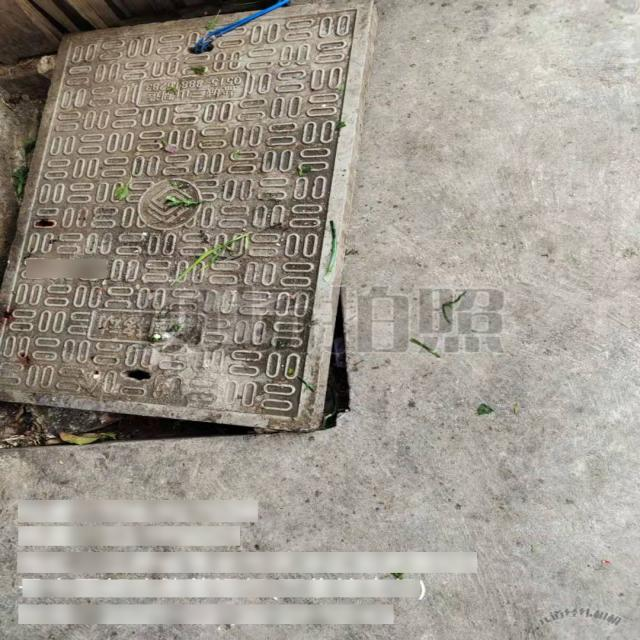Lose: (5, 0, 379, 445)
